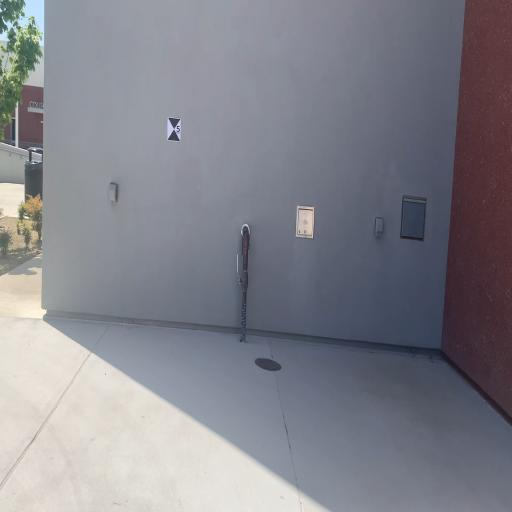target5: (168, 116, 180, 143)
